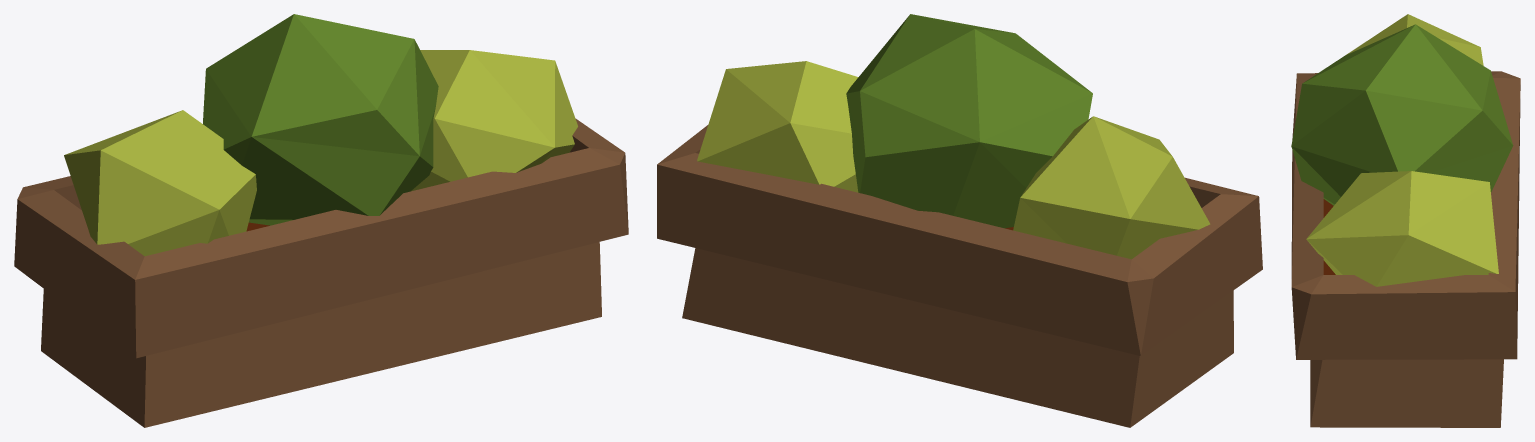
Rendered from Shrub 5.fbx.
The picture shows the model from 3 angles, left to right: view 1: azimuth 30°, elevation 25°; view 2: azimuth 150°, elevation 25°; view 3: azimuth 270°, elevation 25°; orthographic projection. The views are drawn at different scales.
Visible parts, largest first — view 1: Shrub_05; view 2: Shrub_05; view 3: Shrub_05.
Part boxes in pixels (x1,y1,x2,y2): Shrub_05: (14, 14, 628, 427); Shrub_05: (657, 14, 1262, 427); Shrub_05: (1291, 14, 1520, 427).
Size of the model in its own units: 106 by 64.79 by 46.07.
